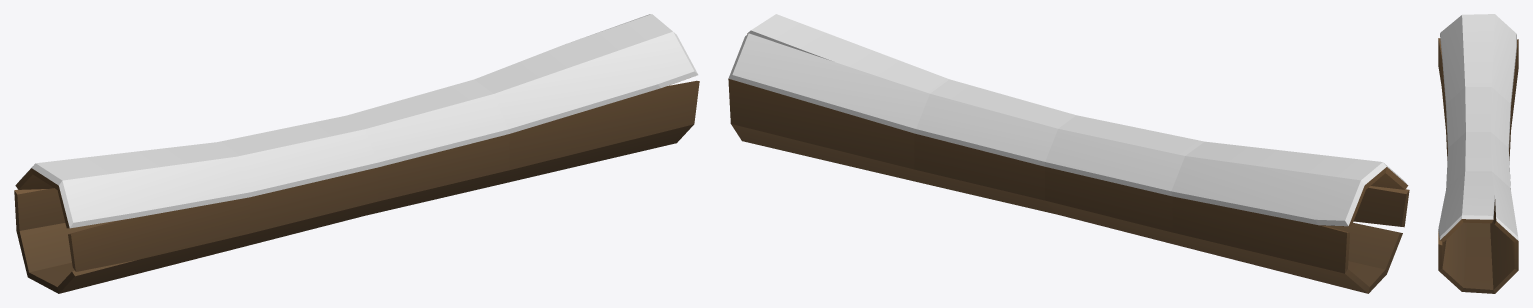
The model's file is Winter_Log_02.glb.
The picture shows the model from 3 angles, left to right: view 1: azimuth 30°, elevation 25°; view 2: azimuth 150°, elevation 25°; view 3: azimuth 270°, elevation 25°; orthographic projection. The views are drawn at different scales.
Parts seen in each view (by area): view 1: Winter_Log_02_LOD0; view 2: Winter_Log_02_LOD0; view 3: Winter_Log_02_LOD0.
Part boxes in pixels (x1,y1,x2,y2): Winter_Log_02_LOD0: (14, 14, 699, 293); Winter_Log_02_LOD0: (728, 14, 1409, 293); Winter_Log_02_LOD0: (1438, 14, 1518, 293).
Size of what is drawn, in the model's own units: 2.18 by 0.3718 by 0.3573.
Materials: 1 (1 with a texture image).
